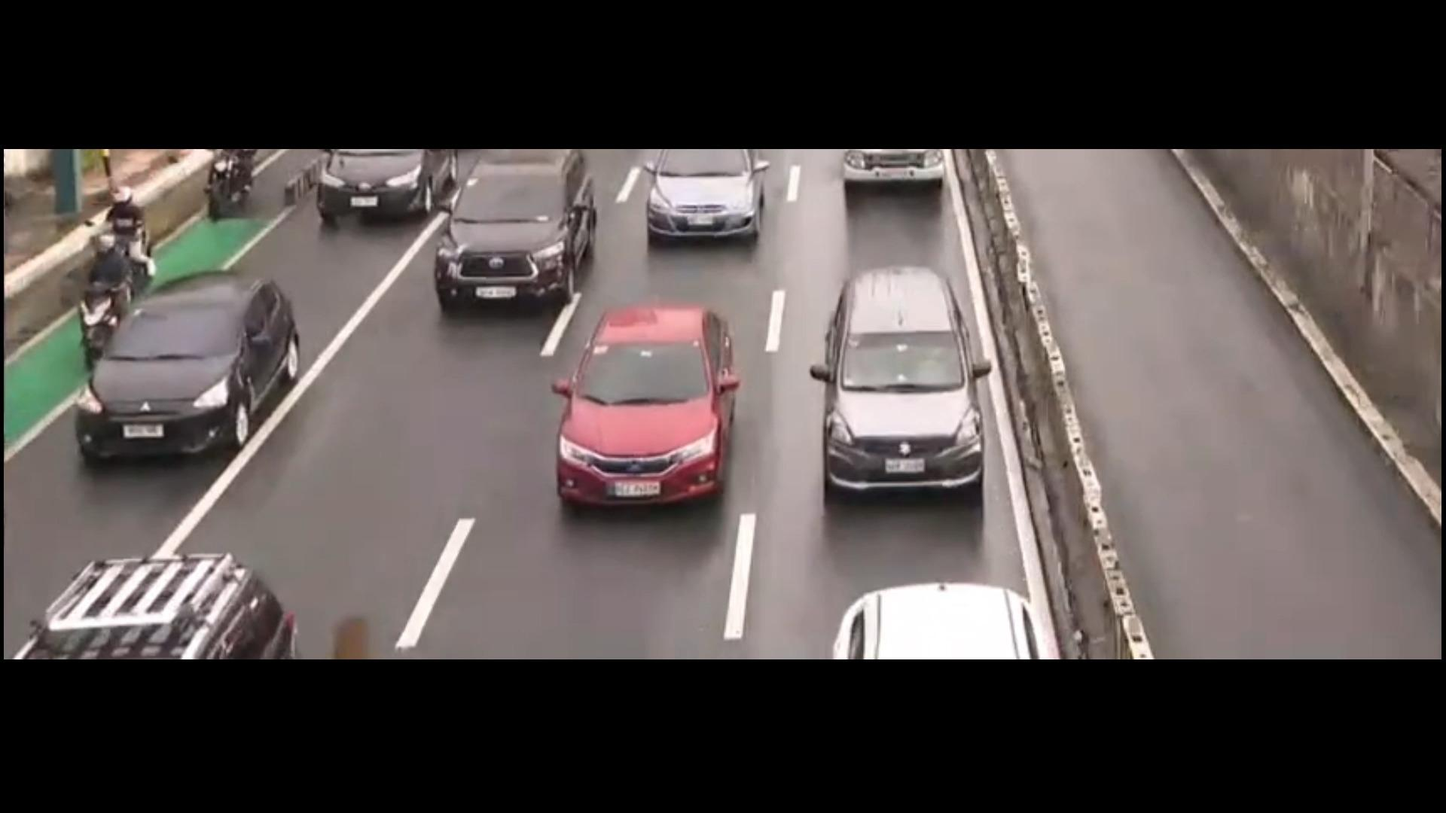Motorcycle: (64, 241, 146, 354), (85, 187, 172, 279), (201, 143, 268, 217)
SUV: (781, 245, 1021, 514), (410, 151, 620, 334), (6, 554, 305, 658)
Sedan: (537, 294, 778, 556), (67, 271, 300, 476), (625, 149, 787, 252), (287, 152, 459, 230)
